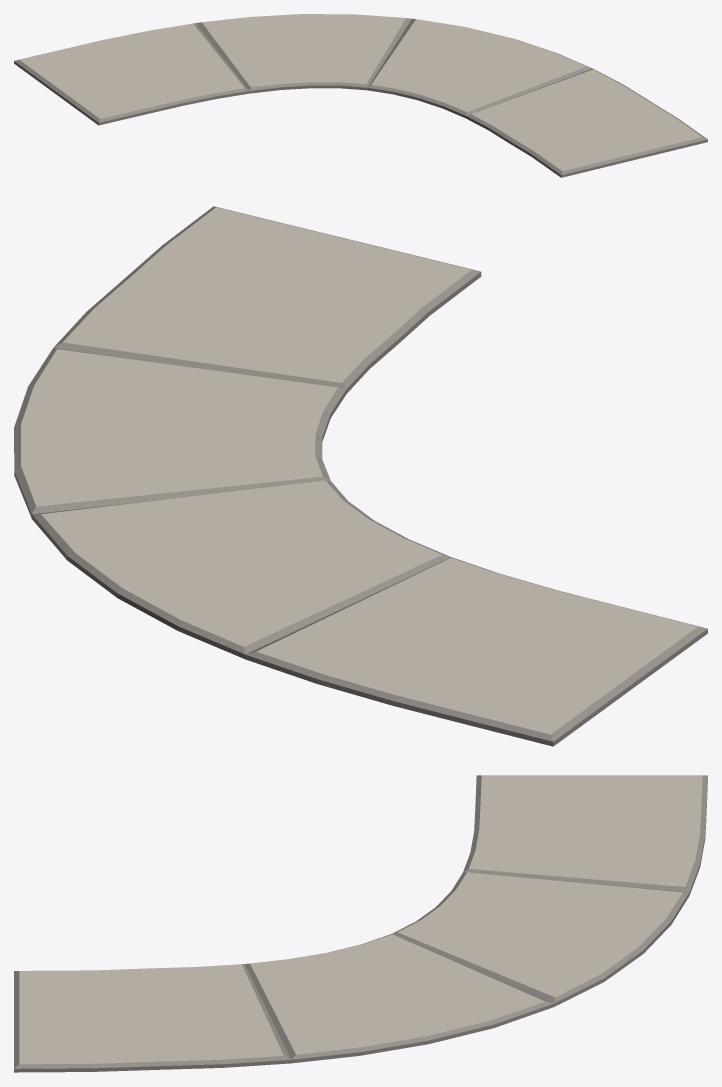
Rendered from Path_Slab_Thin_LargeBend.fbx.
3 views of the same model, one above another, from view 1: azimuth 30°, elevation 25°; view 2: azimuth 150°, elevation 25°; view 3: azimuth 270°, elevation 25° (orthographic). The views are drawn at different scales.
Parts seen in each view (by area): view 1: Slab_Thin_LargeBend; view 2: Slab_Thin_LargeBend; view 3: Slab_Thin_LargeBend.
Part boxes in pixels (bbox=[...]): Slab_Thin_LargeBend: bbox=[14, 14, 707, 177]; Slab_Thin_LargeBend: bbox=[14, 206, 707, 746]; Slab_Thin_LargeBend: bbox=[14, 775, 707, 1072].
Bounding box in the file's own units: 300 × 2.85 × 300.
